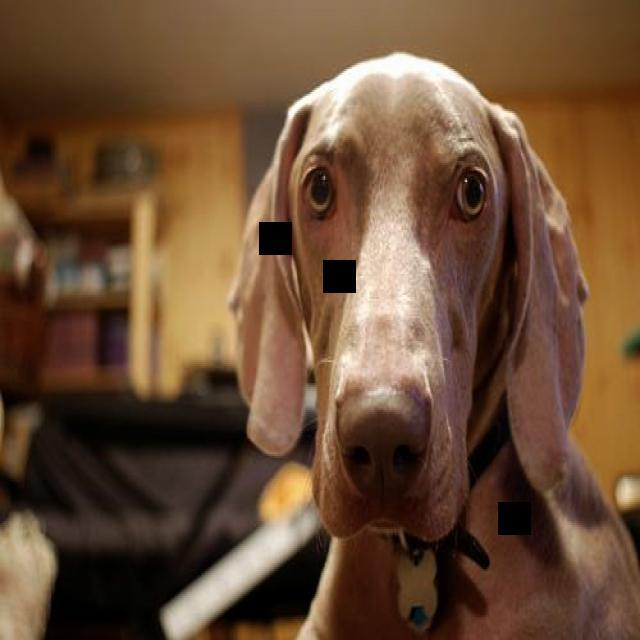adult_dog: (230, 50, 640, 640)
